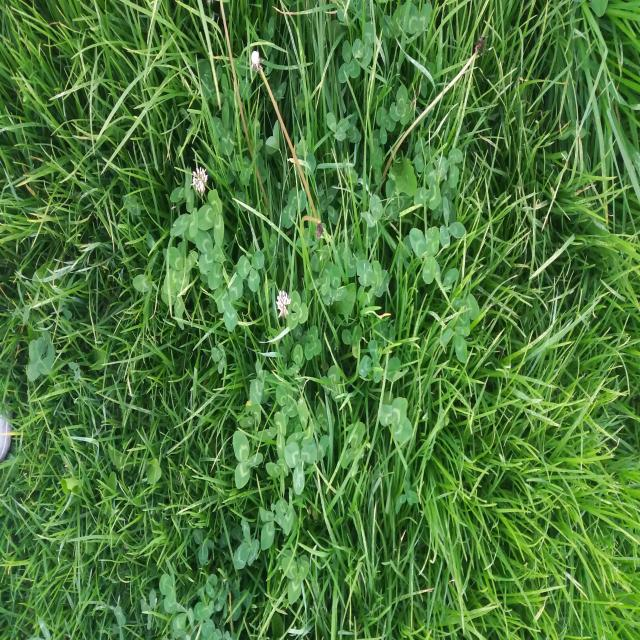Four Leaf Clover: (163, 246, 198, 296), (275, 381, 298, 426)
